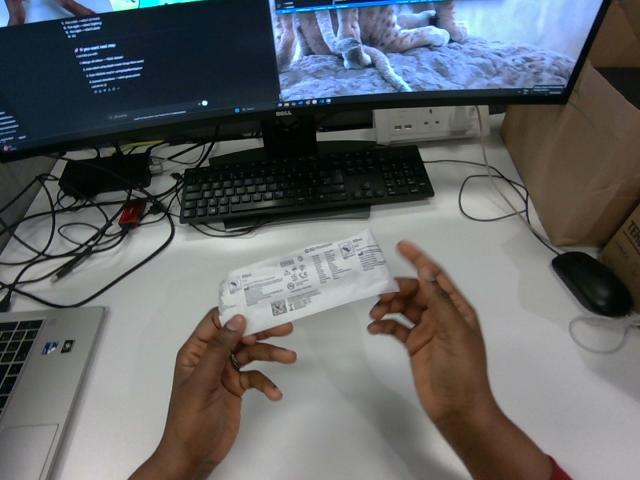syringe: (219, 229, 398, 334)
